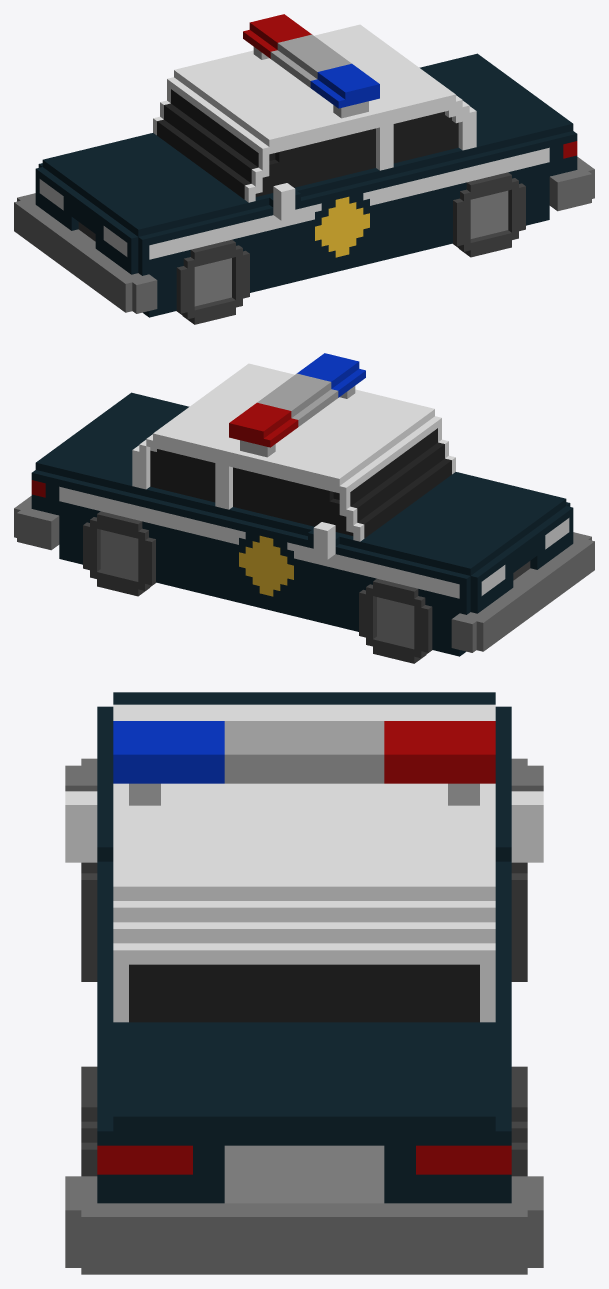
File: police_car.glb
3 renders of one model, top to bottom at view 1: azimuth 30°, elevation 25°; view 2: azimuth 150°, elevation 25°; view 3: azimuth 270°, elevation 25°, orthographic. The views are drawn at different scales.
Parts seen in each view (by area): view 1: Object_2; view 2: Object_2; view 3: Object_2.
Part boxes in pixels (box(x1,y1,x2,y2)): Object_2: box(14, 14, 594, 324); Object_2: box(14, 353, 594, 663); Object_2: box(65, 692, 543, 1274).
Bounding box in the file's own units: 6.8 × 2.6 × 3.
Materials: 1 (1 with a texture image).
